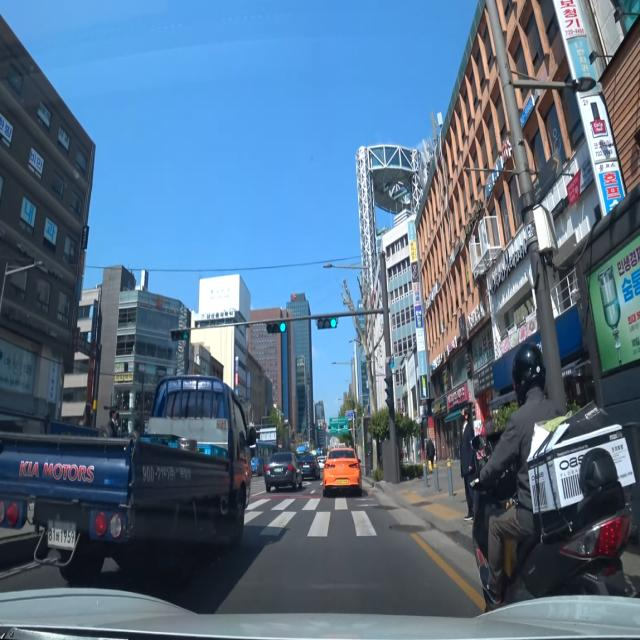Green Light: (279, 322, 286, 333), (330, 317, 337, 328)
